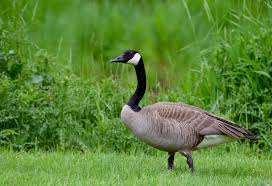goose: (104, 47, 262, 175)
